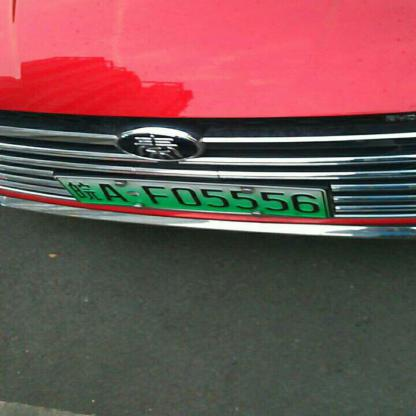lp: (56, 174, 82, 218)
